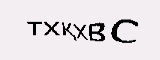В: (88, 19, 105, 44)
С: (108, 17, 143, 45)
Т: (24, 19, 41, 35)
Х: (42, 17, 60, 38), (72, 22, 87, 42)
Қ: (61, 20, 77, 39)
